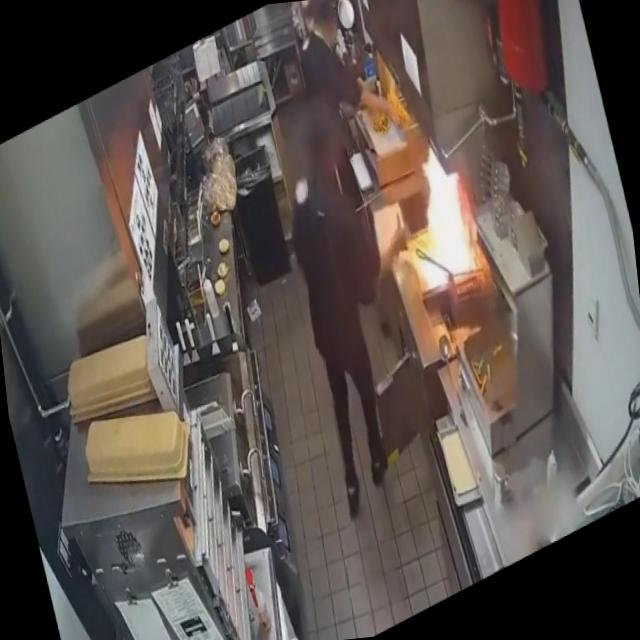fire: (380, 114, 495, 317)
